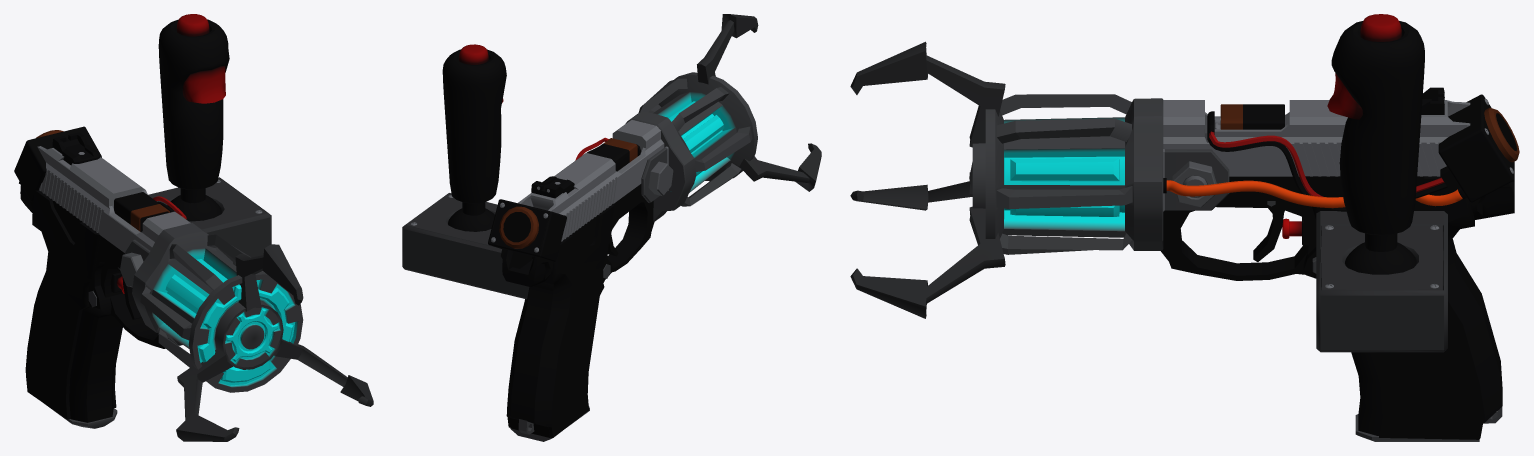
The model's file is manipulator_w.fbx.
3 renders of one model, left to right at view 1: azimuth 30°, elevation 25°; view 2: azimuth 150°, elevation 25°; view 3: azimuth 270°, elevation 25°, orthographic. The views are drawn at different scales.
Parts seen in each view (by area): view 1: pCylinder2; view 2: pCylinder2; view 3: pCylinder2.
Boxes of the visible parts, x1,y1,x2,y2 form: pCylinder2: (14, 14, 373, 441); pCylinder2: (402, 14, 821, 441); pCylinder2: (850, 14, 1519, 441).
Size of the model in its own units: 49.92 by 71.53 by 91.04.
